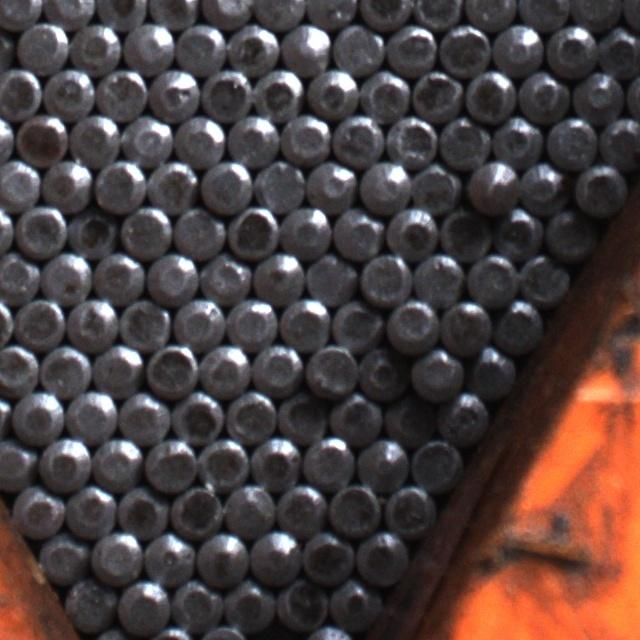tool: (517, 252, 573, 308), (355, 530, 411, 586), (437, 206, 494, 261), (199, 64, 254, 120), (15, 110, 71, 164), (571, 163, 627, 217), (304, 342, 358, 397), (462, 67, 516, 122), (438, 21, 492, 76), (143, 435, 197, 490), (410, 251, 465, 305), (544, 208, 598, 263), (11, 293, 65, 347), (464, 158, 518, 212), (383, 206, 437, 260), (438, 298, 492, 352), (328, 296, 384, 348), (438, 390, 490, 446), (492, 206, 544, 262), (38, 436, 91, 490), (411, 67, 464, 121), (40, 155, 93, 209), (327, 482, 379, 537), (544, 23, 597, 76), (437, 115, 490, 168), (409, 346, 462, 399), (545, 115, 597, 169), (146, 342, 198, 396), (198, 435, 249, 490), (222, 481, 273, 536), (326, 578, 382, 628), (90, 529, 142, 582), (358, 68, 411, 120), (357, 159, 409, 212), (516, 69, 568, 122), (385, 114, 437, 167), (116, 484, 169, 536), (516, 160, 568, 213), (387, 298, 440, 350), (356, 434, 408, 487), (63, 576, 115, 629), (254, 158, 305, 212), (253, 64, 304, 118), (411, 437, 462, 491), (467, 345, 518, 399), (331, 207, 383, 259), (12, 390, 64, 442), (384, 22, 436, 74), (277, 296, 329, 348), (116, 579, 168, 631), (174, 388, 226, 440), (490, 21, 542, 73), (410, 161, 462, 213), (490, 115, 542, 167), (118, 296, 170, 348), (66, 293, 118, 345), (356, 345, 408, 397), (195, 530, 247, 582), (36, 532, 88, 584), (466, 253, 518, 305), (168, 486, 220, 538), (15, 203, 66, 256), (145, 159, 196, 212), (359, 251, 410, 304), (384, 483, 437, 534), (225, 21, 278, 72), (248, 432, 299, 485), (492, 299, 543, 352), (200, 159, 250, 213), (226, 112, 276, 166), (302, 530, 352, 584), (250, 341, 301, 393), (119, 205, 171, 256), (96, 66, 147, 118), (16, 20, 68, 71), (305, 66, 356, 118), (172, 295, 224, 346), (280, 113, 332, 164), (198, 342, 249, 394), (43, 66, 94, 118), (173, 113, 224, 165), (148, 67, 199, 119), (280, 203, 331, 255), (119, 391, 170, 443), (330, 392, 382, 443), (39, 344, 90, 396), (280, 21, 332, 72), (382, 394, 434, 445), (305, 251, 357, 302), (248, 529, 299, 581), (226, 205, 276, 258), (65, 483, 115, 536), (94, 157, 144, 210), (302, 434, 352, 487), (173, 206, 224, 257), (91, 437, 142, 488), (122, 20, 174, 70), (306, 158, 358, 208), (66, 389, 116, 441), (332, 114, 382, 166), (333, 22, 383, 74), (226, 390, 278, 440), (144, 531, 194, 583), (92, 342, 142, 394), (251, 252, 303, 302), (169, 578, 221, 628), (12, 487, 64, 537), (225, 296, 275, 347), (40, 250, 91, 300), (69, 21, 120, 71), (572, 66, 623, 116), (276, 391, 326, 442), (70, 112, 121, 162), (66, 208, 118, 257), (174, 22, 224, 72), (93, 250, 143, 300), (146, 251, 196, 301), (275, 482, 325, 532), (273, 580, 323, 630), (122, 113, 171, 164), (199, 252, 250, 301), (224, 579, 273, 630), (598, 112, 640, 166), (0, 65, 42, 118), (597, 24, 640, 75), (0, 157, 40, 210), (0, 342, 39, 394), (0, 250, 39, 300), (0, 438, 36, 490), (516, 0, 570, 30), (358, 0, 410, 30), (412, 0, 464, 29), (465, 0, 517, 28), (96, 0, 148, 28), (571, 0, 621, 28), (148, 0, 199, 27), (306, 0, 356, 27), (254, 0, 304, 27), (203, 0, 253, 26), (44, 0, 94, 24), (0, 0, 40, 27)
